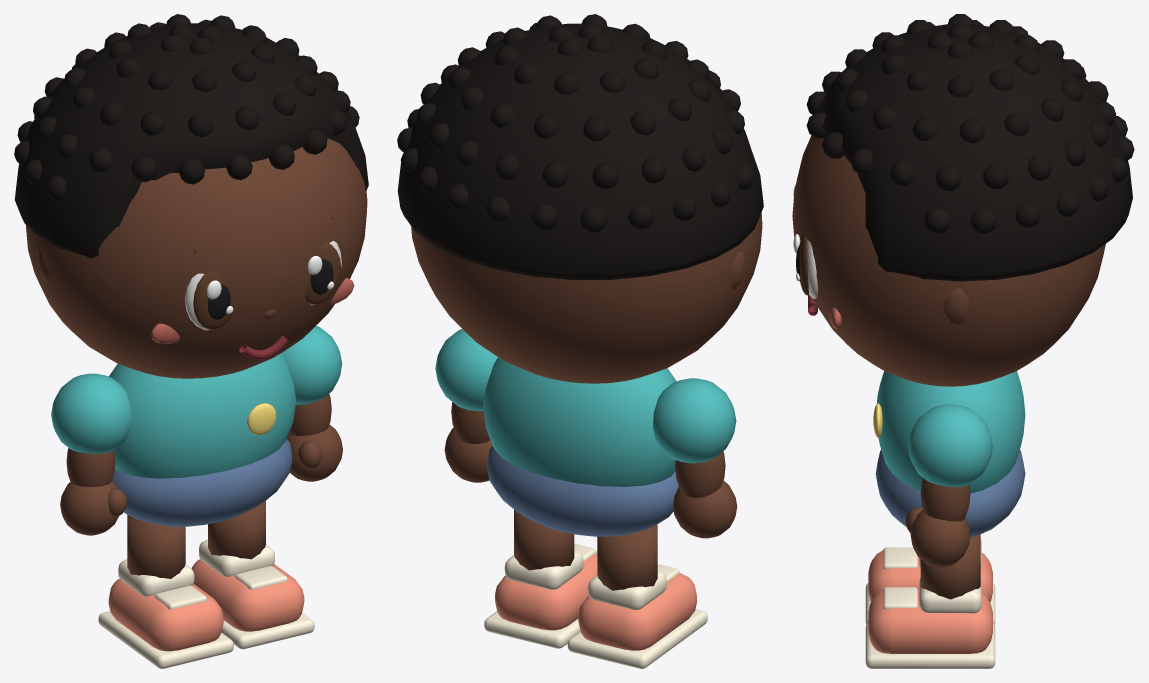
File: chibi-older-boy.glb
3 views of the same model, side by side, from view 1: azimuth 30°, elevation 25°; view 2: azimuth 150°, elevation 25°; view 3: azimuth 270°, elevation 25° (orthographic). The views are drawn at different scales.
Parts seen in each view (by area): view 1: head-textured black hair, head-deep brown skin, torso-teal shirt, torso-navy shorts, arm-left-teal shirt, leg-left-coral shoes, leg-right-coral shoes, leg-left-cream accents, arm-left-deep brown skin, leg-right-cream accents, arm-right-deep brown skin, arm-right-teal shirt (+9 smaller); view 2: head-textured black hair, head-deep brown skin, torso-teal shirt, torso-navy shorts, arm-left-teal shirt, leg-left-coral shoes, leg-left-cream accents, arm-left-deep brown skin, leg-right-coral shoes, arm-right-teal shirt, leg-right-cream accents, leg-left-deep brown skin (+2 smaller); view 3: head-textured black hair, head-deep brown skin, torso-teal shirt, leg-right-coral shoes, arm-right-teal shirt, leg-right-cream accents, arm-right-deep brown skin, torso-navy shorts, leg-right-deep brown skin, leg-left-coral shoes, leg-left-cream accents.
Part boxes in pixels (x1,y1,x2,y2): head-textured black hair: (14, 14, 368, 258); head-deep brown skin: (26, 138, 367, 378); torso-teal shirt: (109, 353, 295, 478); torso-navy shorts: (112, 439, 292, 526); arm-left-teal shirt: (51, 373, 131, 453); leg-left-coral shoes: (108, 578, 223, 651); leg-right-coral shoes: (191, 559, 304, 631); leg-left-cream accents: (98, 559, 233, 668); arm-left-deep brown skin: (60, 448, 127, 535); leg-right-cream accents: (199, 539, 314, 649); arm-right-deep brown skin: (287, 394, 342, 481); arm-right-teal shirt: (281, 326, 342, 404); head-textured black hair: (397, 14, 763, 279); head-deep brown skin: (411, 212, 762, 383); torso-teal shirt: (483, 357, 676, 486); torso-navy shorts: (487, 445, 678, 536); arm-left-teal shirt: (653, 378, 736, 463); leg-left-coral shoes: (578, 573, 696, 650); leg-left-cream accents: (567, 564, 707, 668); arm-left-deep brown skin: (673, 451, 737, 538); leg-right-coral shoes: (495, 553, 597, 630); arm-right-teal shirt: (435, 329, 497, 410); leg-right-cream accents: (484, 543, 596, 648); leg-left-deep brown skin: (597, 524, 657, 604); head-textured black hair: (806, 14, 1134, 281); head-deep brown skin: (792, 135, 1105, 386); torso-teal shirt: (876, 371, 1025, 493); leg-right-coral shoes: (868, 588, 992, 653); arm-right-teal shirt: (908, 404, 992, 487); leg-right-cream accents: (865, 578, 995, 668); arm-right-deep brown skin: (905, 478, 970, 567); torso-navy shorts: (875, 449, 1025, 537); leg-right-deep brown skin: (920, 534, 980, 612); leg-left-coral shoes: (868, 550, 992, 602); leg-left-cream accents: (865, 538, 995, 624).
Size of the model in its own units: 1.47 by 2.65 by 1.37.
